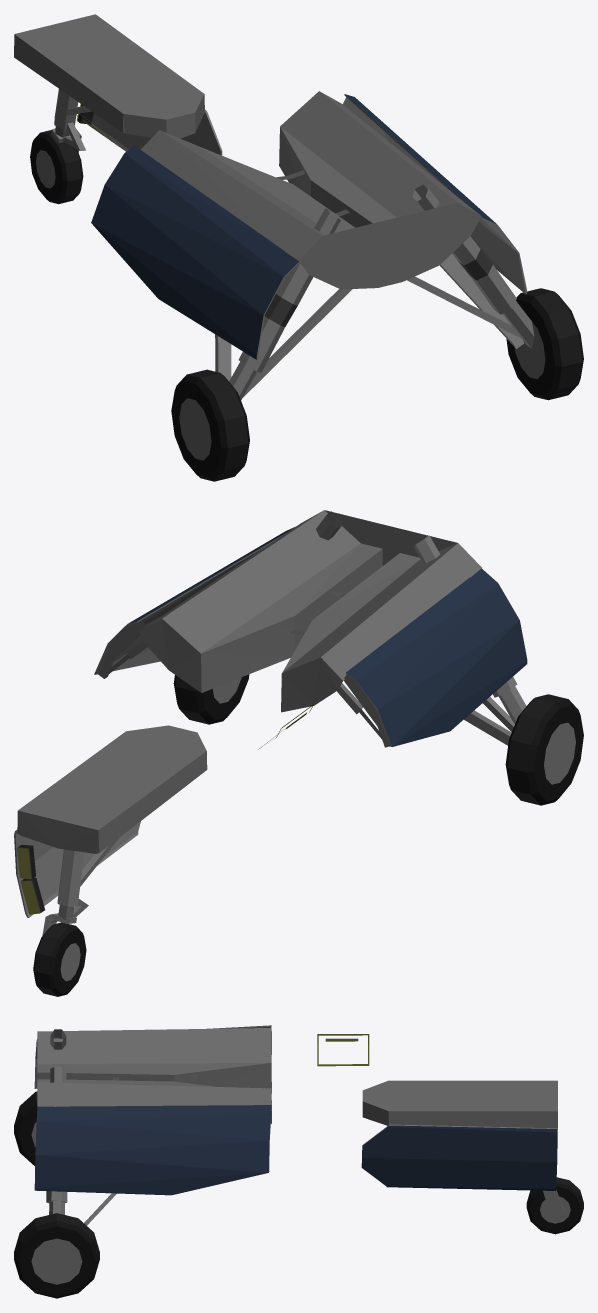
Rendered from Gear_F2-525.obj.
3 views of the same model, one above another, from view 1: azimuth 30°, elevation 25°; view 2: azimuth 150°, elevation 25°; view 3: azimuth 270°, elevation 25° (orthographic). The views are drawn at different scales.
Visible parts, largest first — view 1: ShapeIndexedFaceSet.153_ShapeIndexedFaceSet.154, ShapeIndexedFaceSet.161_ShapeIndexedFaceSet.162, ShapeIndexedFaceSet.138_ShapeIndexedFaceSet.139, ShapeIndexedFaceSet.155_ShapeIndexedFaceSet.156, ShapeIndexedFaceSet.165_ShapeIndexedFaceSet.166, ShapeIndexedFaceSet.157_ShapeIndexedFaceSet.158, ShapeIndexedFaceSet.167_ShapeIndexedFaceSet.168, ShapeIndexedFaceSet.158_ShapeIndexedFaceSet.159, ShapeIndexedFaceSet.172_ShapeIndexedFaceSet.173, ShapeIndexedFaceSet.168_ShapeIndexedFaceSet.169, ShapeIndexedFaceSet.149_ShapeIndexedFaceSet.150, ShapeIndexedFaceSet.142_ShapeIndexedFaceSet.143 (+8 smaller); view 2: ShapeIndexedFaceSet.153_ShapeIndexedFaceSet.154, ShapeIndexedFaceSet.161_ShapeIndexedFaceSet.162, ShapeIndexedFaceSet.138_ShapeIndexedFaceSet.139, ShapeIndexedFaceSet.157_ShapeIndexedFaceSet.158, ShapeIndexedFaceSet.158_ShapeIndexedFaceSet.159, ShapeIndexedFaceSet.149_ShapeIndexedFaceSet.150, ShapeIndexedFaceSet.172_ShapeIndexedFaceSet.173, ShapeIndexedFaceSet.155_ShapeIndexedFaceSet.156, ShapeIndexedFaceSet.142_ShapeIndexedFaceSet.143, ShapeIndexedFaceSet.159_ShapeIndexedFaceSet.160, ShapeIndexedFaceSet.140_ShapeIndexedFaceSet.141, ShapeIndexedFaceSet.167_ShapeIndexedFaceSet.168 (+5 smaller); view 3: ShapeIndexedFaceSet.171_ShapeIndexedFaceSet.172, ShapeIndexedFaceSet.153_ShapeIndexedFaceSet.154, ShapeIndexedFaceSet.147_ShapeIndexedFaceSet.148, ShapeIndexedFaceSet.138_ShapeIndexedFaceSet.139, ShapeIndexedFaceSet.167_ShapeIndexedFaceSet.168, ShapeIndexedFaceSet.169_ShapeIndexedFaceSet.170, ShapeIndexedFaceSet.142_ShapeIndexedFaceSet.143, ShapeIndexedFaceSet.157_ShapeIndexedFaceSet.158, ShapeIndexedFaceSet.168_ShapeIndexedFaceSet.169, ShapeIndexedFaceSet.165_ShapeIndexedFaceSet.166, ShapeIndexedFaceSet.145_ShapeIndexedFaceSet.146, ShapeIndexedFaceSet.144_ShapeIndexedFaceSet.145.
Boxes of the visible parts, x1,y1,x2,y2 form: ShapeIndexedFaceSet.153_ShapeIndexedFaceSet.154: (140,91,481,289); ShapeIndexedFaceSet.161_ShapeIndexedFaceSet.162: (91,145,298,359); ShapeIndexedFaceSet.138_ShapeIndexedFaceSet.139: (14,14,204,138); ShapeIndexedFaceSet.155_ShapeIndexedFaceSet.156: (229,208,352,400); ShapeIndexedFaceSet.165_ShapeIndexedFaceSet.166: (407,184,534,348); ShapeIndexedFaceSet.157_ShapeIndexedFaceSet.158: (171,374,249,481); ShapeIndexedFaceSet.167_ShapeIndexedFaceSet.168: (506,292,583,399); ShapeIndexedFaceSet.158_ShapeIndexedFaceSet.159: (187,369,248,481); ShapeIndexedFaceSet.172_ShapeIndexedFaceSet.173: (344,94,526,294); ShapeIndexedFaceSet.168_ShapeIndexedFaceSet.169: (521,288,582,399); ShapeIndexedFaceSet.149_ShapeIndexedFaceSet.150: (87,109,222,155); ShapeIndexedFaceSet.142_ShapeIndexedFaceSet.143: (30,132,83,203); ShapeIndexedFaceSet.153_ShapeIndexedFaceSet.154: (139,510,481,712); ShapeIndexedFaceSet.161_ShapeIndexedFaceSet.162: (346,568,527,746); ShapeIndexedFaceSet.138_ShapeIndexedFaceSet.139: (17,725,207,853); ShapeIndexedFaceSet.157_ShapeIndexedFaceSet.158: (505,698,583,805); ShapeIndexedFaceSet.158_ShapeIndexedFaceSet.159: (507,694,568,805); ShapeIndexedFaceSet.149_ShapeIndexedFaceSet.150: (14,821,140,917); ShapeIndexedFaceSet.172_ShapeIndexedFaceSet.173: (94,534,283,674); ShapeIndexedFaceSet.155_ShapeIndexedFaceSet.156: (413,535,526,731); ShapeIndexedFaceSet.142_ShapeIndexedFaceSet.143: (33,925,86,996); ShapeIndexedFaceSet.159_ShapeIndexedFaceSet.160: (544,722,575,784); ShapeIndexedFaceSet.140_ShapeIndexedFaceSet.141: (57,849,88,917); ShapeIndexedFaceSet.167_ShapeIndexedFaceSet.168: (173,674,249,724); ShapeIndexedFaceSet.171_ShapeIndexedFaceSet.172: (34,1105,271,1195); ShapeIndexedFaceSet.153_ShapeIndexedFaceSet.154: (37,1028,271,1123); ShapeIndexedFaceSet.147_ShapeIndexedFaceSet.148: (361,1125,557,1190); ShapeIndexedFaceSet.138_ShapeIndexedFaceSet.139: (362,1080,557,1128); ShapeIndexedFaceSet.167_ShapeIndexedFaceSet.168: (14,1221,99,1298); ShapeIndexedFaceSet.169_ShapeIndexedFaceSet.170: (31,1238,82,1284); ShapeIndexedFaceSet.142_ShapeIndexedFaceSet.143: (526,1183,583,1234); ShapeIndexedFaceSet.157_ShapeIndexedFaceSet.158: (14,1099,37,1165); ShapeIndexedFaceSet.168_ShapeIndexedFaceSet.169: (14,1213,99,1259); ShapeIndexedFaceSet.165_ShapeIndexedFaceSet.166: (46,1066,67,1214); ShapeIndexedFaceSet.145_ShapeIndexedFaceSet.146: (540,1196,570,1223); ShapeIndexedFaceSet.144_ShapeIndexedFaceSet.145: (543,1190,564,1217).
Bounding box in the file's own units: 25.1 × 15.55 × 43.8.
